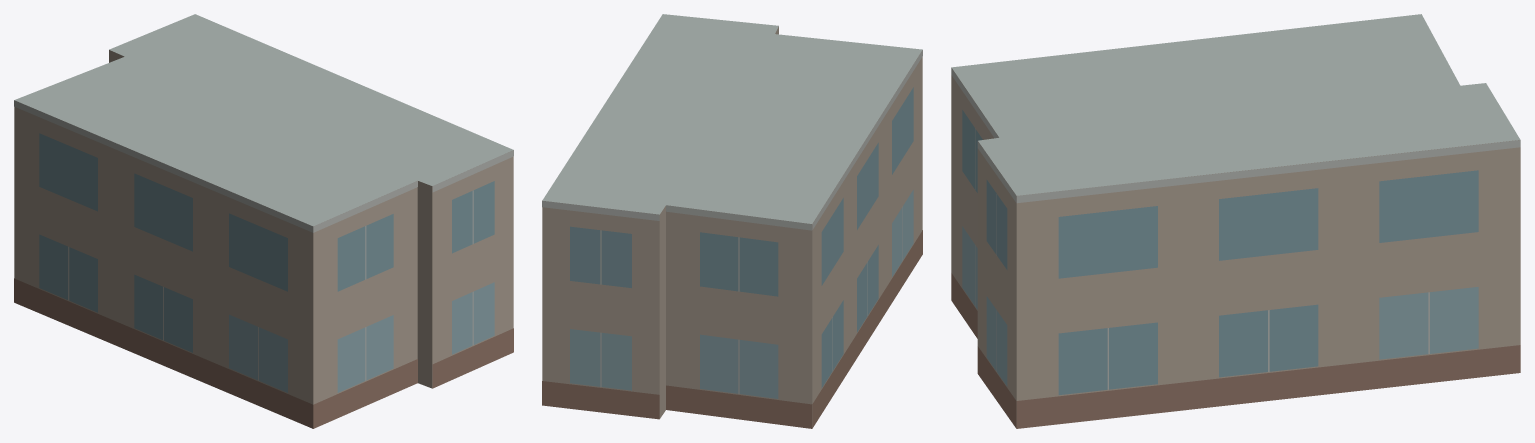
File: survey-upis-32506225.glb
3 renders of one model, left to right at view 1: azimuth 30°, elevation 25°; view 2: azimuth 150°, elevation 25°; view 3: azimuth 270°, elevation 25°, orthographic. The views are drawn at different scales.
Parts seen in each view (by area): view 1: survey-upis-32506225.tmp; view 2: survey-upis-32506225.tmp; view 3: survey-upis-32506225.tmp.
Boxes of the visible parts, left/top/right/bottom form: survey-upis-32506225.tmp: left=14, top=14, right=513, bottom=428; survey-upis-32506225.tmp: left=542, top=14, right=922, bottom=428; survey-upis-32506225.tmp: left=951, top=14, right=1520, bottom=428.
Bounding box in the file's own units: 12.81 × 7.65 × 16.94.
